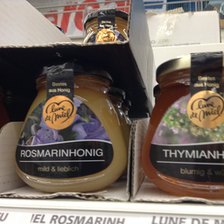honey: (17, 65, 128, 192), (143, 53, 224, 199)
